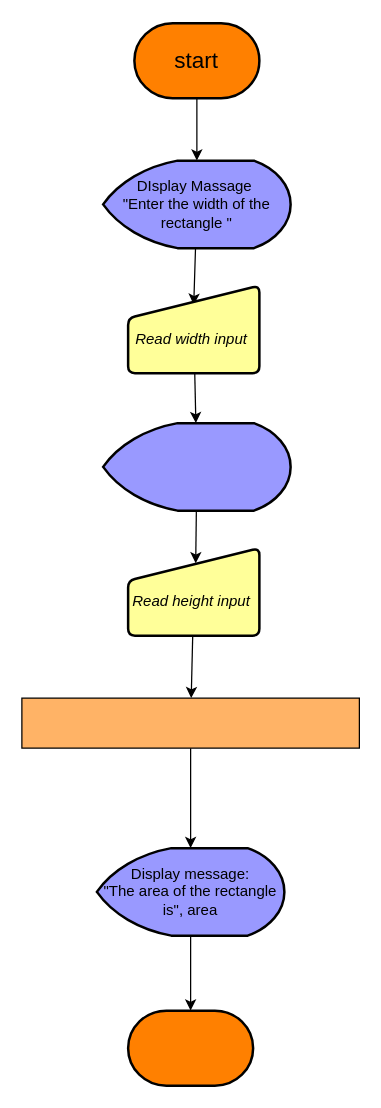
Some shapes in this 381 by 1108 pixel diagram are drawn without their labels. The centre of each missing label's shape, as x and y in pixels:
Calculate area: area = width * height: the point at 190,722
DIsplay Massage "Enter the height of the rectangle ": the point at 196,466
END: the point at 190,1047
